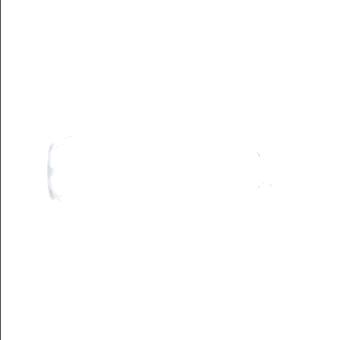bottle: (47, 131, 298, 208)
